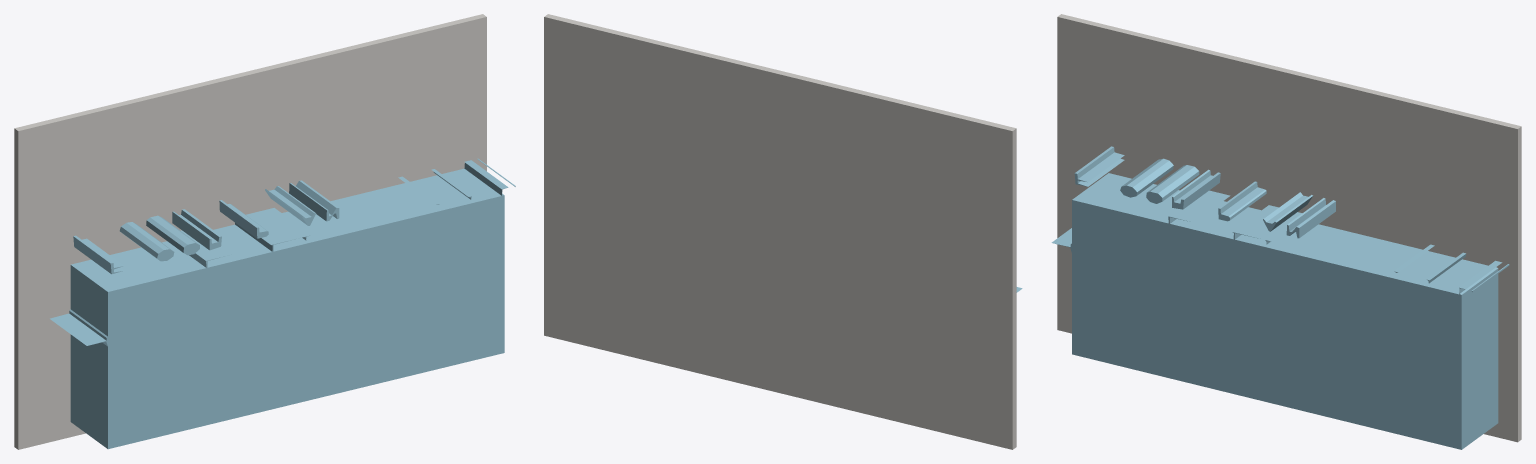
The picture shows the model from 3 angles, left to right: view 1: azimuth 30°, elevation 25°; view 2: azimuth 150°, elevation 25°; view 3: azimuth 330°, elevation 25°; orthographic projection.
Parts seen in each view (by area): view 1: world; view 2: world; view 3: world.
Part boxes in pixels (x1,y1,x2,y2): world: (14,14,515,449); world: (544,14,1022,449); world: (1051,14,1521,449).
Size of the model in its own units: 10.23 by 6.65 by 1.56.
